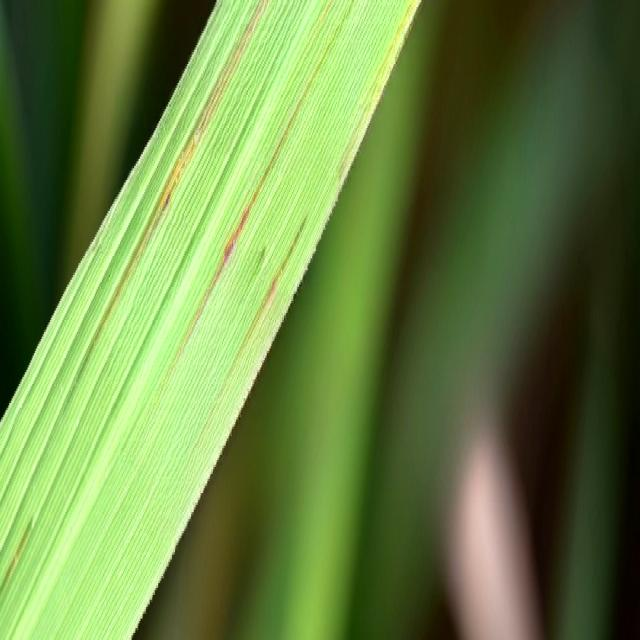BLS: (82, 0, 269, 366), (162, 17, 342, 390), (217, 212, 308, 401), (340, 0, 419, 159), (0, 524, 30, 597), (324, 0, 334, 24), (349, 0, 356, 16)
